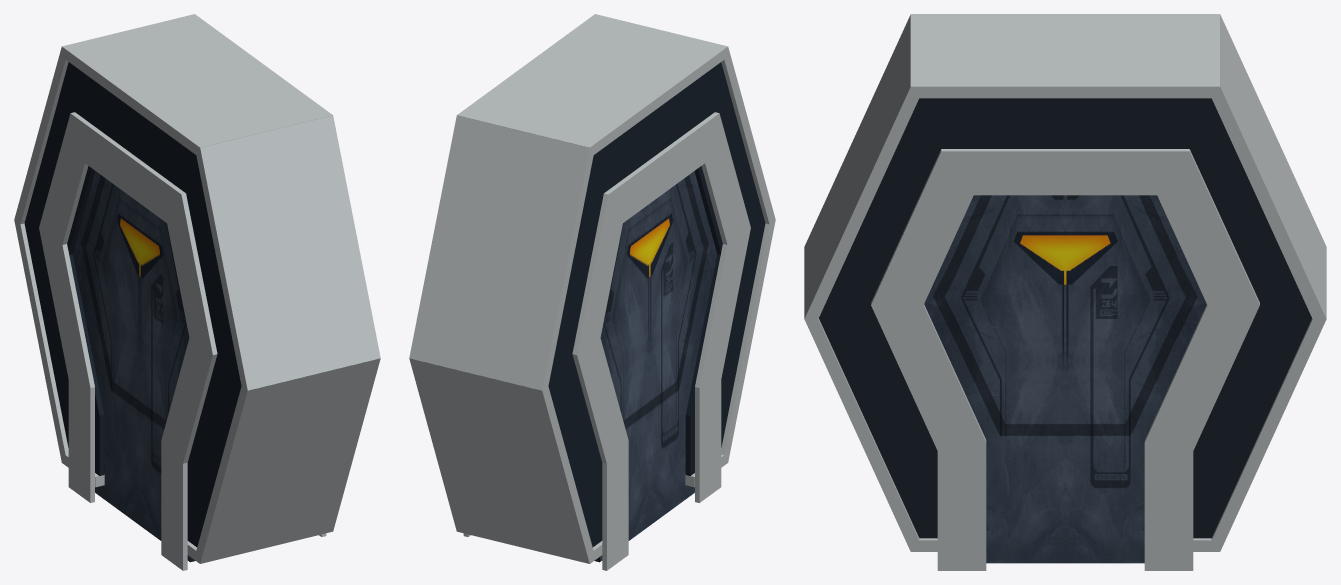
The model's file is clu_door_full.obj.
3 renders of one model, left to right at view 1: azimuth 30°, elevation 25°; view 2: azimuth 150°, elevation 25°; view 3: azimuth 270°, elevation 25°, orthographic. The views are drawn at different scales.
Parts seen in each view (by area): view 1: cube022_cube.022, cube046_cube.046, leftbottom, cube011_cube.011, cube023_cube.023, rightbottom, cube043_cube.043, lefttop, cube012_cube.012, cube047_cube.000, cube014_cube.014, cube032_cube.032 (+17 smaller); view 2: cube034_cube.034, cube010_cube.010, rightbottom, cube023_cube.023, cube011_cube.011, leftbottom, cube004_cube.004, righttop, cube039_cube.039, cube047_cube.000, cube012_cube.012, cube033_cube.033 (+16 smaller); view 3: leftbottom, rightbottom, cube023_cube.023, cube011_cube.011, righttop, lefttop, cube022_cube.022, cube034_cube.034, cube007_cube.007, cube040_cube.040, cube003_cube.003, cube021_cube.021 (+20 smaller).
Boxes of the visible parts, x1,y1,x2,y2 form: cube022_cube.022: (196,115,380,390); cube046_cube.046: (196,358,380,563); leftbottom: (90,251,139,525); cube011_cube.011: (131,64,332,157); cube023_cube.023: (61,14,263,106); rightbottom: (140,288,195,562); cube043_cube.043: (187,336,240,518); lefttop: (90,171,139,287); cube012_cube.012: (161,193,217,355); cube047_cube.000: (39,227,94,388); cube014_cube.014: (185,192,241,388); cube032_cube.032: (39,114,89,256); cube034_cube.034: (409,115,593,390); cube010_cube.010: (409,358,593,563); rightbottom: (650,251,699,525); cube023_cube.023: (457,64,658,157); cube011_cube.011: (526,14,728,106); leftbottom: (594,288,649,562); cube004_cube.004: (548,336,602,518); righttop: (650,171,699,287); cube039_cube.039: (695,227,750,387); cube047_cube.000: (572,326,628,469); cube012_cube.012: (699,113,750,249); cube033_cube.033: (548,206,601,388); leftbottom: (1065,297,1177,563); rightbottom: (953,297,1065,563); cube023_cube.023: (1065,14,1219,98); cube011_cube.011: (911,14,1065,98); righttop: (953,195,1065,297); lefttop: (1065,195,1177,297); cube022_cube.022: (804,14,921,323); cube034_cube.034: (1210,14,1326,321); cube007_cube.007: (1193,292,1311,501); cube040_cube.040: (819,293,937,501); cube003_cube.003: (1144,288,1259,458); cube021_cube.021: (819,150,934,344).
Size of the model in its own units: 1.72 by 4.96 by 4.87.
